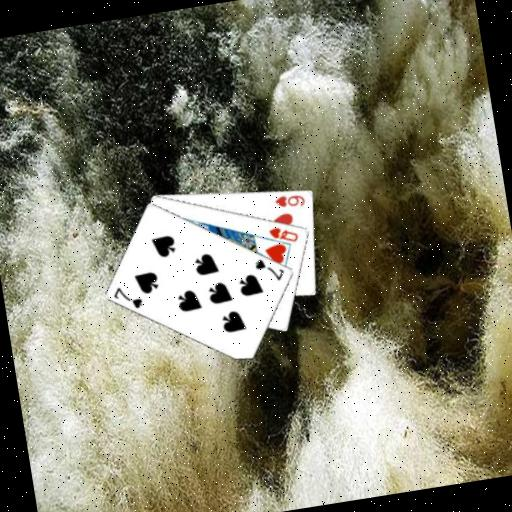6H: (271, 189, 307, 211)
7S: (250, 252, 287, 285), (109, 280, 145, 313)
QH: (265, 220, 300, 246)
